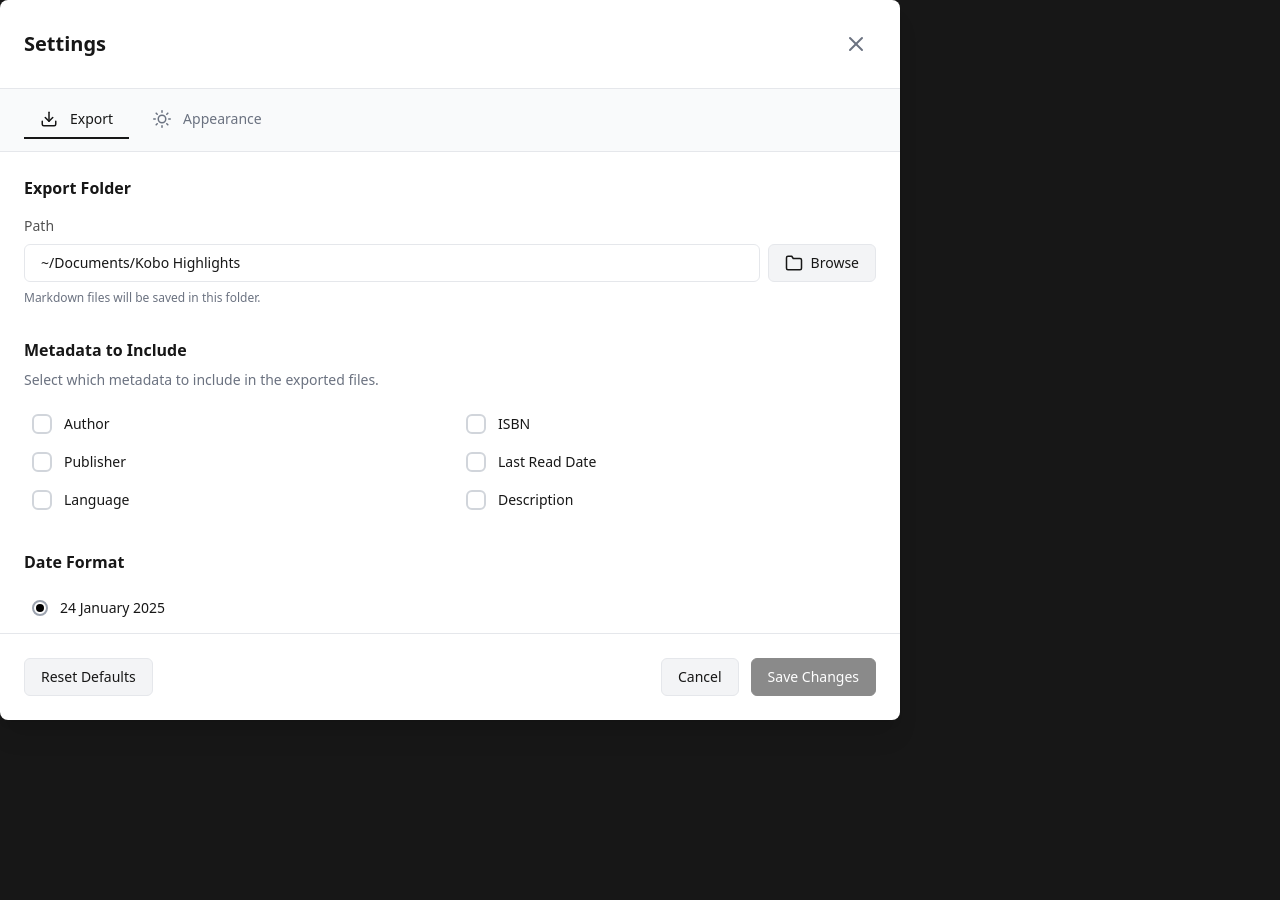
Test case: SettingsPanel › should enable save button after making changes
Type "/new/path" into the field labelled "Path".
click(392, 263); type("/new/path")  # box [24,244,760,282]
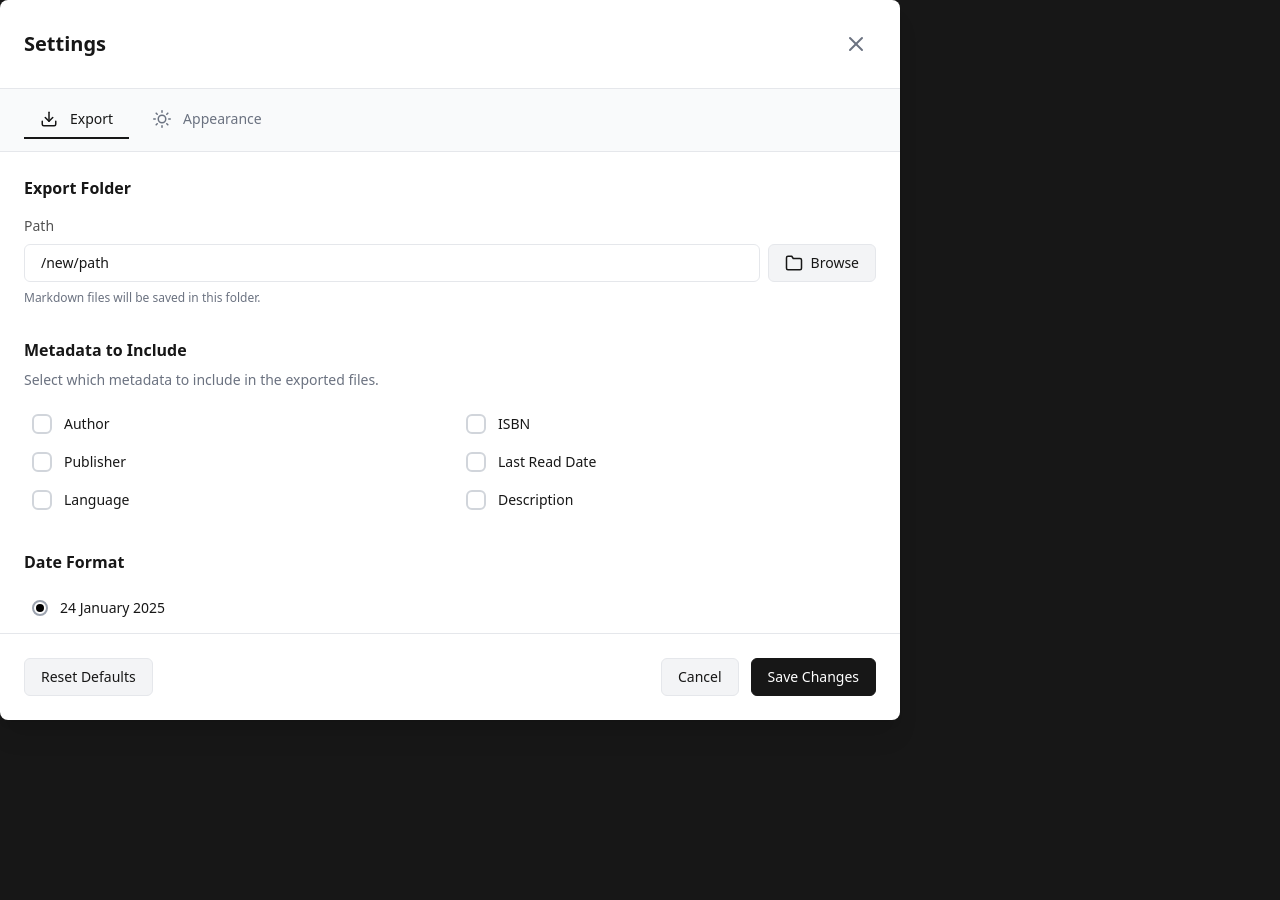
Check: the button "Save Changes" is enabled, box [751,658,876,696]
